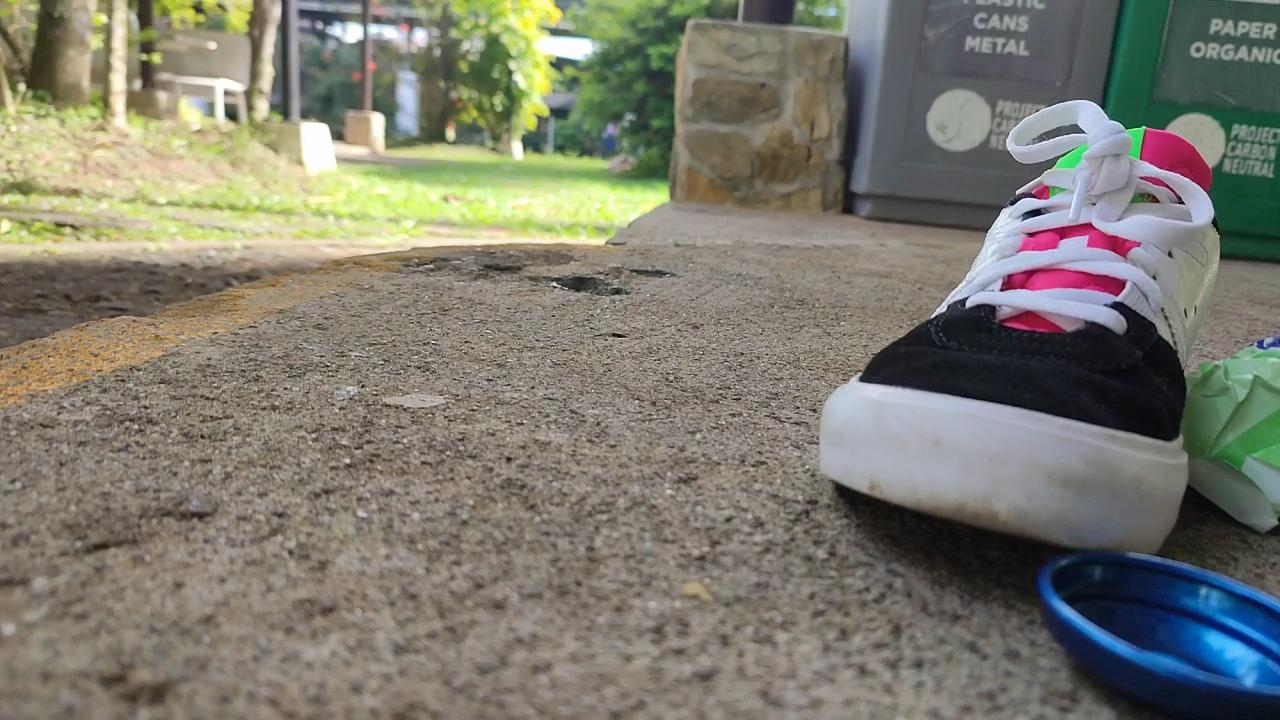Paper: (1178, 284, 1280, 537)
